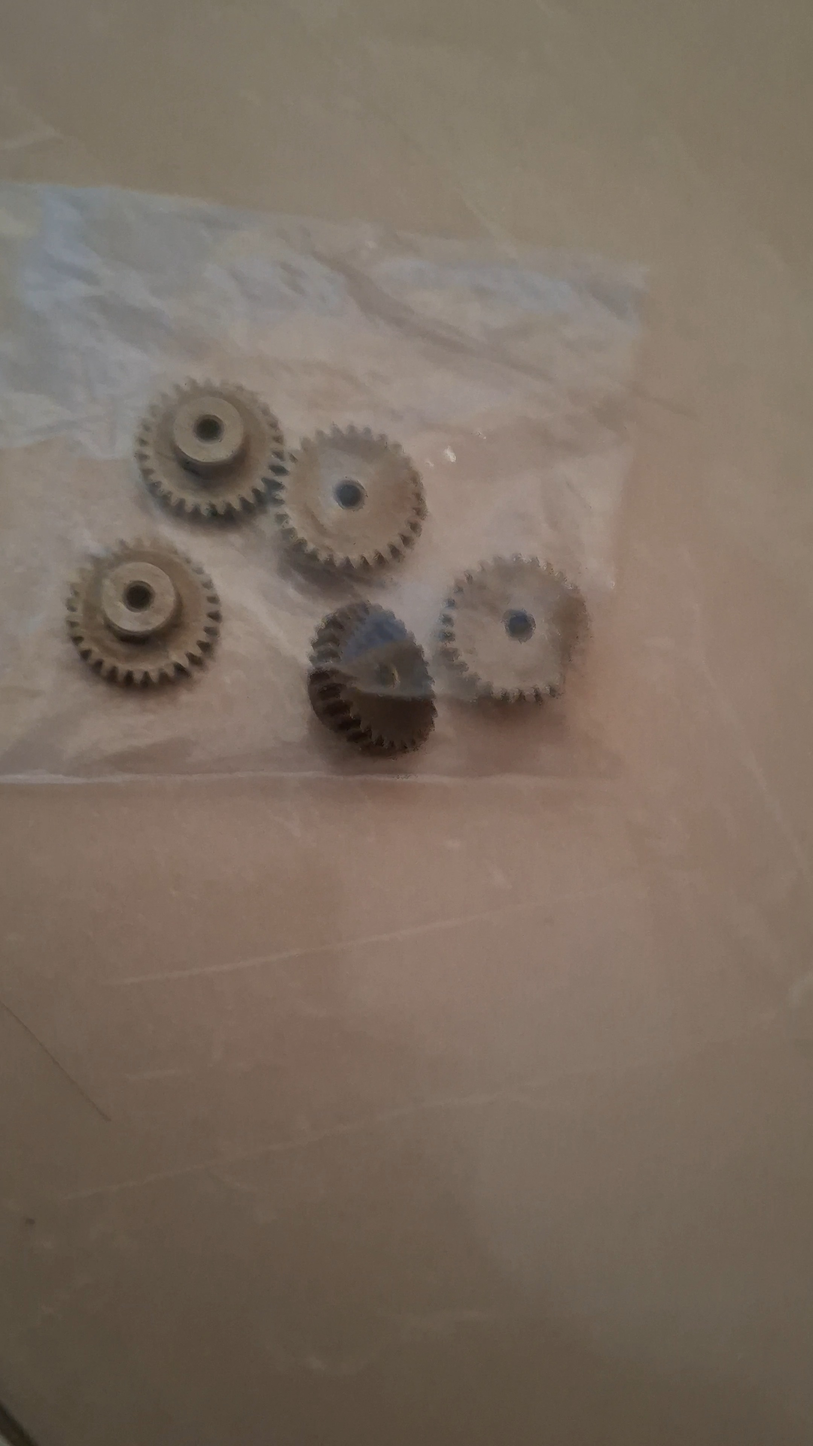spur gear: (67, 541, 221, 684), (273, 426, 425, 569), (439, 556, 587, 700), (135, 381, 285, 517), (309, 602, 435, 755)
